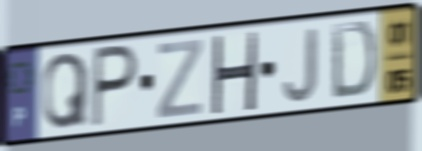D: (329, 19, 378, 102)
H: (208, 31, 260, 115)
J: (280, 25, 320, 106)
P: (89, 42, 140, 131)
Q: (41, 50, 90, 132)
Z: (154, 35, 205, 121)
